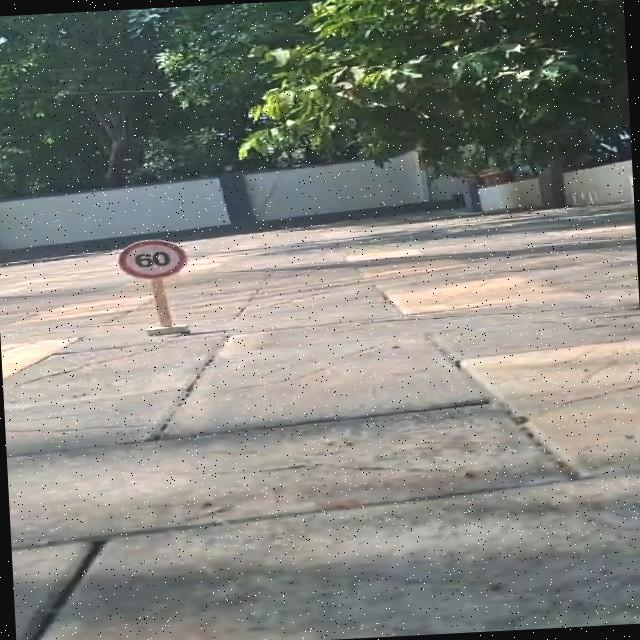Speed60: (115, 236, 192, 282)
